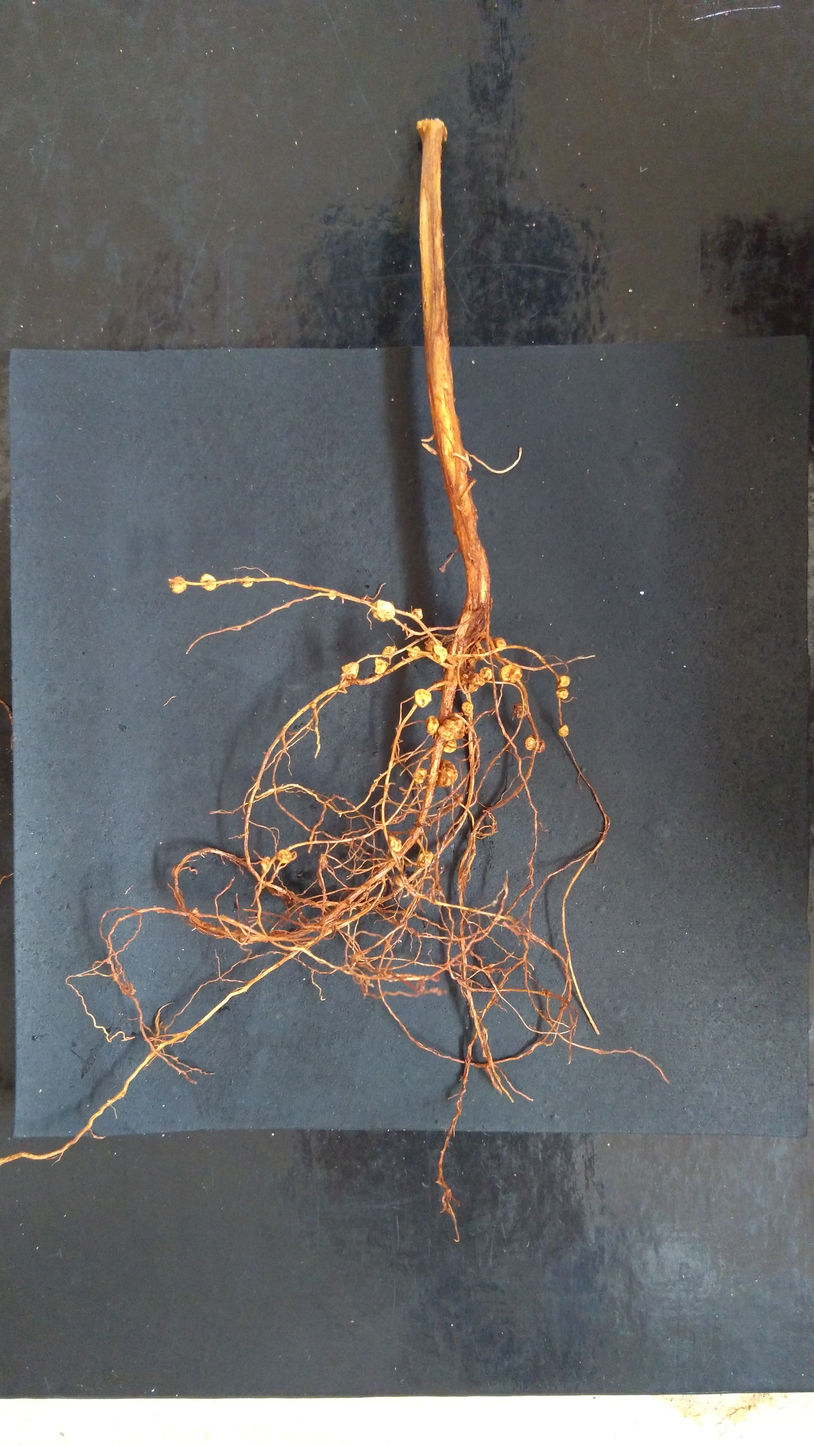nodule: (437, 716, 465, 740), (435, 759, 458, 788), (370, 599, 395, 623), (498, 662, 523, 684), (412, 687, 434, 709), (168, 575, 187, 595), (340, 662, 360, 681), (415, 850, 435, 869), (511, 702, 529, 722), (489, 636, 508, 653), (200, 573, 216, 593), (425, 714, 439, 735), (387, 835, 403, 852), (277, 848, 293, 865), (412, 767, 427, 784), (432, 644, 446, 662), (374, 656, 388, 674), (441, 739, 457, 754), (424, 639, 442, 652), (556, 674, 571, 689), (523, 734, 536, 751), (468, 673, 485, 686), (260, 855, 271, 875), (478, 666, 493, 680), (407, 645, 421, 658), (460, 701, 473, 715), (240, 575, 253, 588), (556, 688, 569, 701), (472, 649, 486, 661), (557, 724, 569, 738), (381, 645, 396, 656), (319, 853, 329, 869), (411, 607, 423, 620), (394, 874, 405, 888), (537, 738, 547, 753), (465, 657, 477, 669), (467, 684, 479, 692), (329, 590, 337, 600), (311, 702, 316, 709)
